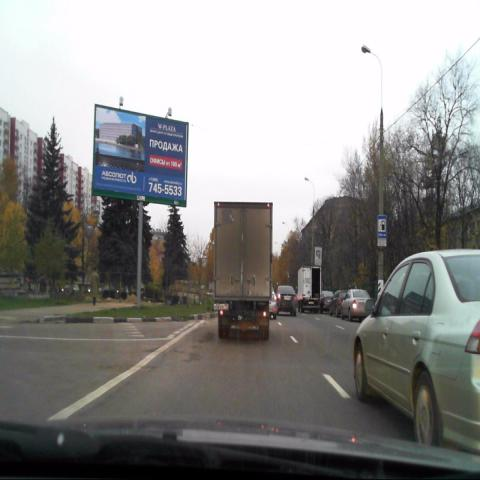7_3: (377, 214, 386, 236)
